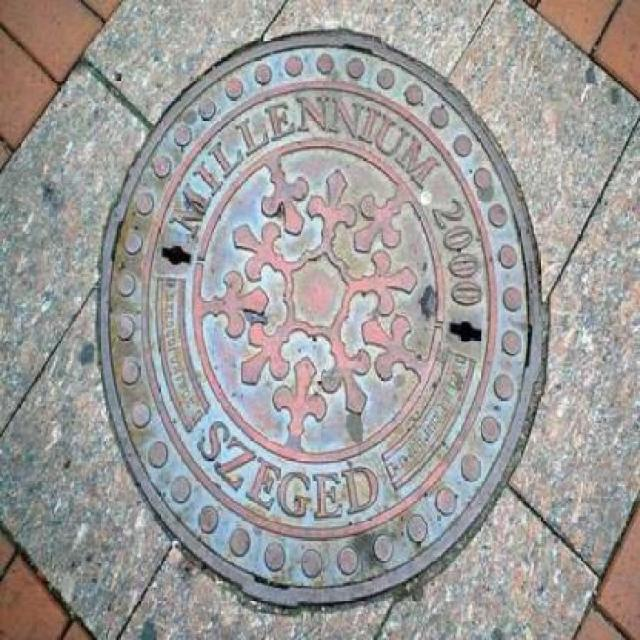Manhole: (87, 26, 558, 612)
